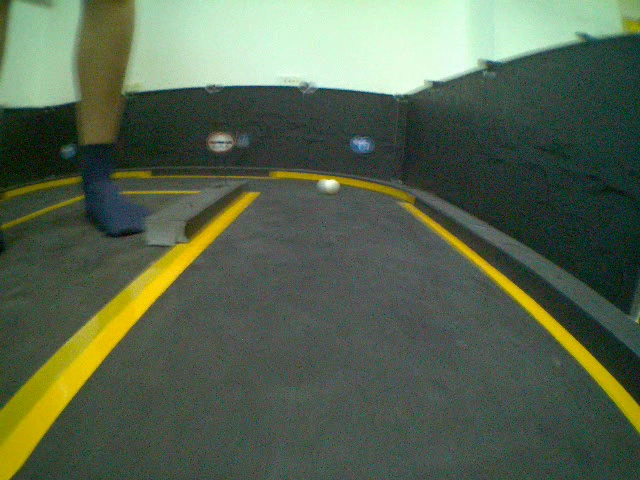ball: (318, 176, 340, 195)
